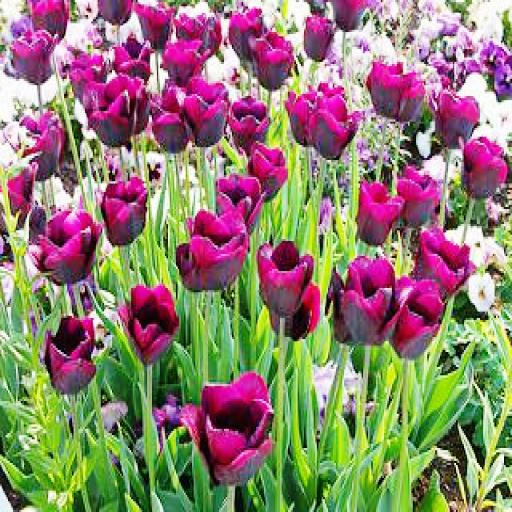tulip: (184, 367, 274, 476), (32, 207, 96, 284), (187, 209, 243, 286), (366, 55, 426, 126), (42, 314, 98, 390), (4, 111, 66, 179), (118, 284, 178, 354), (342, 256, 390, 341), (392, 273, 440, 356), (259, 239, 314, 311), (98, 177, 148, 243), (358, 175, 404, 245), (150, 83, 194, 156), (84, 76, 134, 138), (462, 134, 508, 196), (182, 81, 229, 141), (309, 94, 352, 158), (436, 90, 478, 152), (398, 167, 442, 226), (218, 175, 262, 226), (13, 28, 54, 81), (160, 38, 208, 81), (256, 34, 294, 88), (228, 96, 266, 147), (252, 145, 286, 201), (304, 15, 333, 64)
